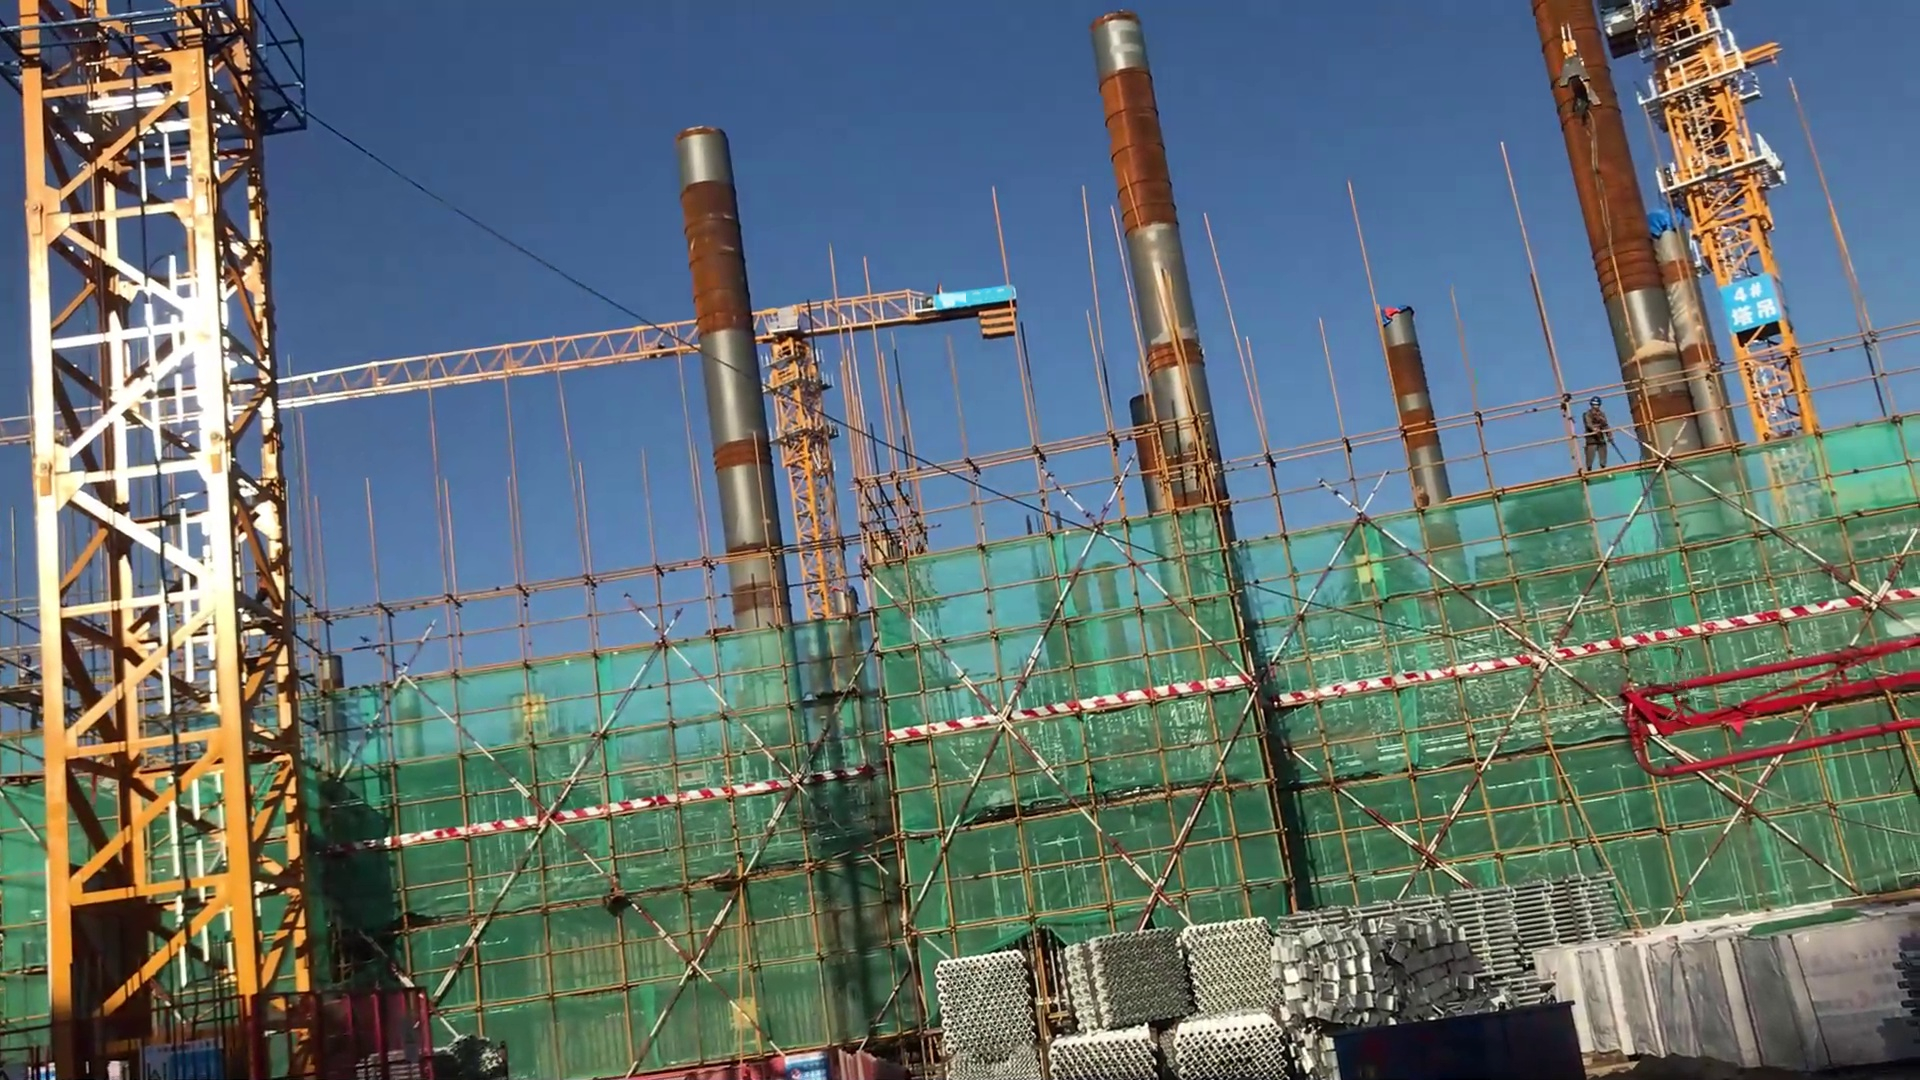helmet: (1587, 393, 1608, 409)
hook: (1526, 23, 1641, 120)
person: (1571, 394, 1631, 471)
scaffold: (1063, 931, 1279, 1080), (917, 945, 1045, 1068), (1442, 885, 1608, 960)
